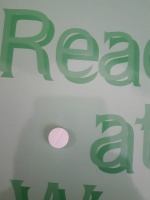Arveles: (46, 126, 70, 149)
